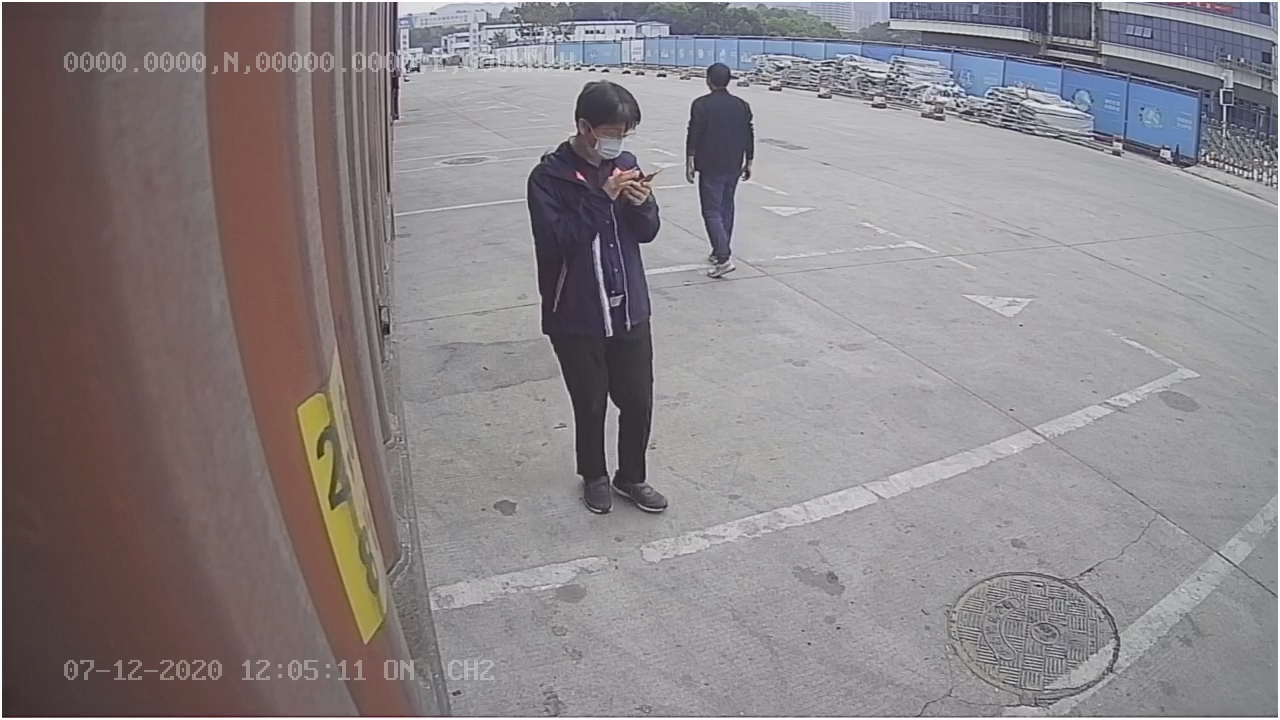person: (525, 67, 674, 512), (685, 53, 763, 284)
